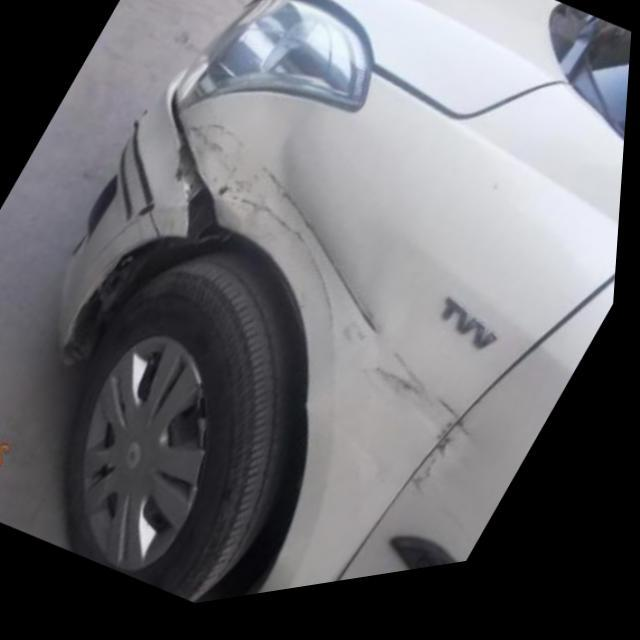crack: (181, 129, 363, 355), (263, 168, 395, 351), (375, 363, 489, 460), (79, 202, 186, 289), (411, 434, 478, 503), (174, 165, 185, 194)
dislocated part: (168, 91, 222, 242)
